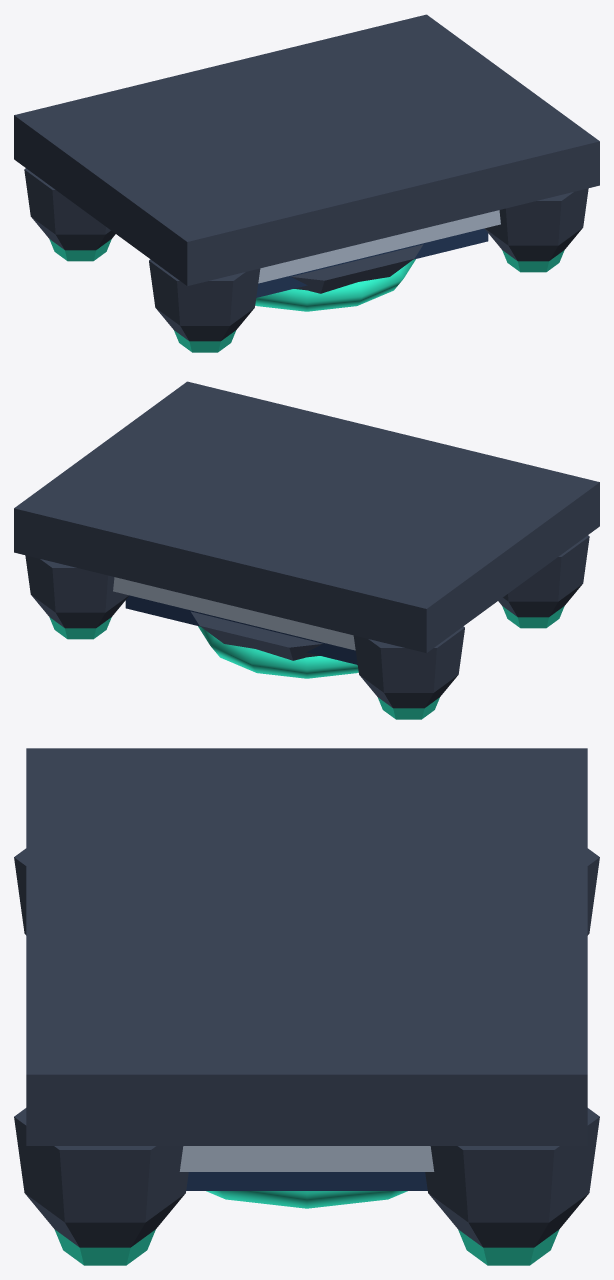
File: AirProp_GateHoverCradle.obj
The picture shows the model from 3 angles, top to bottom: view 1: azimuth 30°, elevation 25°; view 2: azimuth 150°, elevation 25°; view 3: azimuth 270°, elevation 25°; orthographic projection. The views are drawn at different scales.
Visible parts, largest first — view 1: Cradle_Frame, Cradle_ThrusterCore; view 2: Cradle_Frame, Cradle_ThrusterCore; view 3: Cradle_Frame, Cradle_ThrusterCore.
Part boxes in pixels (bbox=[...]): Cradle_Frame: bbox=[14, 14, 599, 341]; Cradle_ThrusterCore: bbox=[49, 239, 564, 352]; Cradle_Frame: bbox=[14, 381, 599, 708]; Cradle_ThrusterCore: bbox=[49, 606, 564, 719]; Cradle_Frame: bbox=[14, 748, 599, 1247]; Cradle_ThrusterCore: bbox=[54, 1191, 559, 1265].
Size of the model in its own units: 0.4401 by 0.1475 by 0.334.
